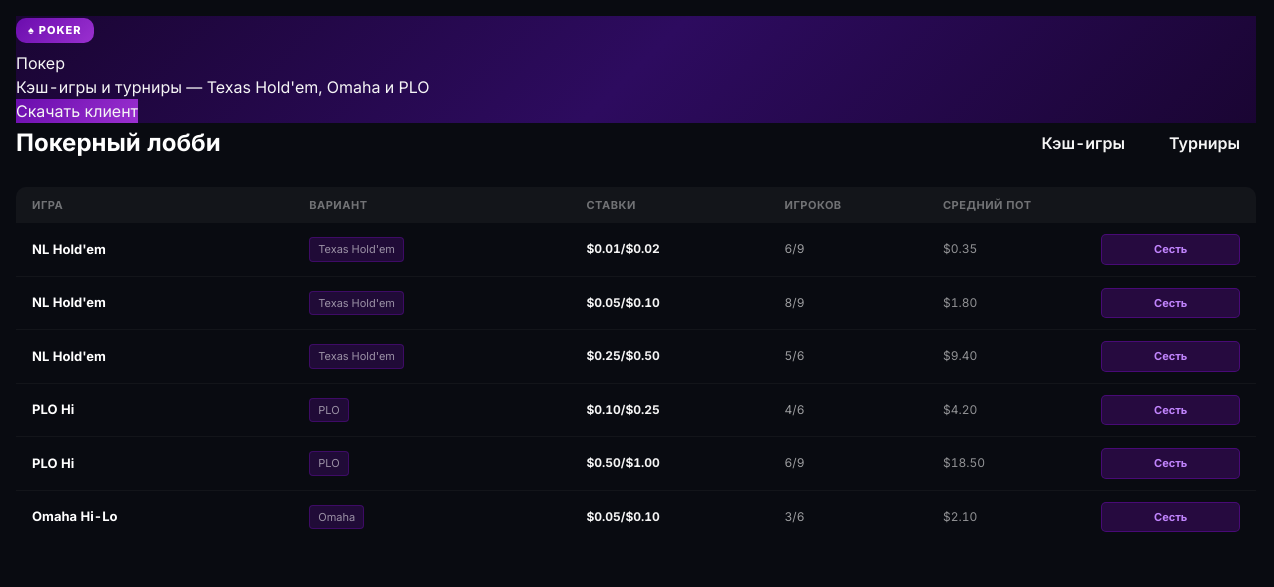
Test case: Poker Component › Tournaments Tab › shows Russian in progress text for running tournaments
What coordinates should you click on to do the following:
click the button "Турниры"
I would click on:
 (1204, 142)
Its box is [1153, 122, 1256, 162].
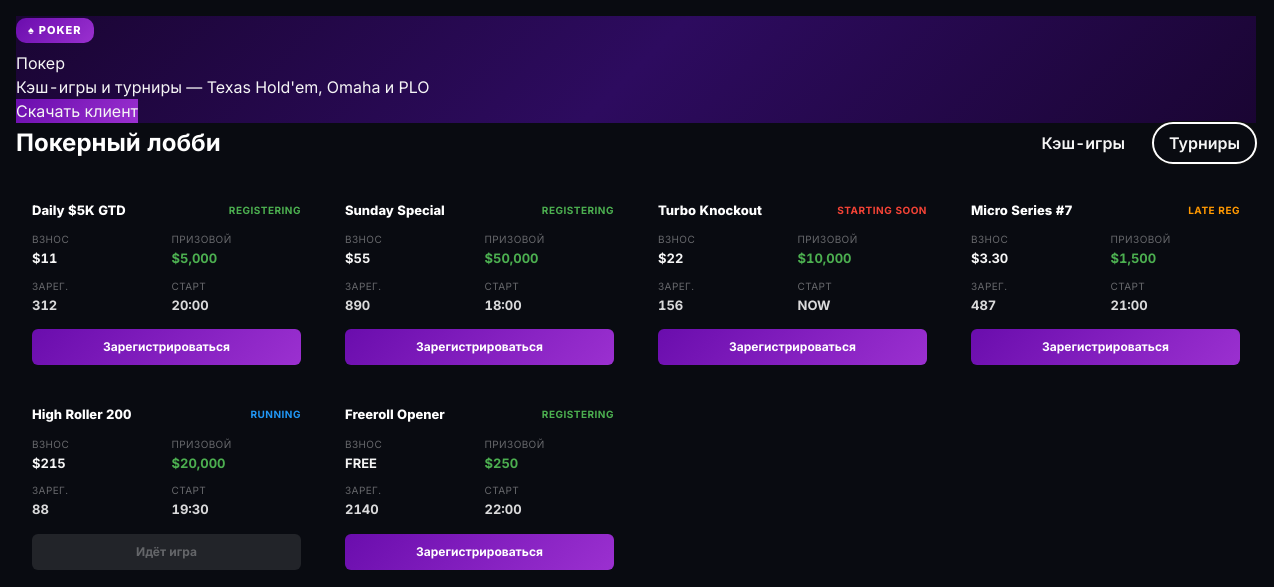
Result: the button "Идёт игра" is shown at [32, 534, 301, 570]
